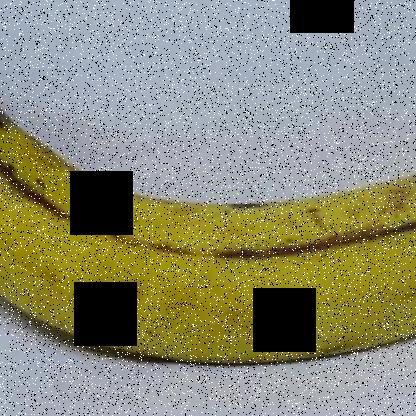ripe: (0, 107, 415, 399)
